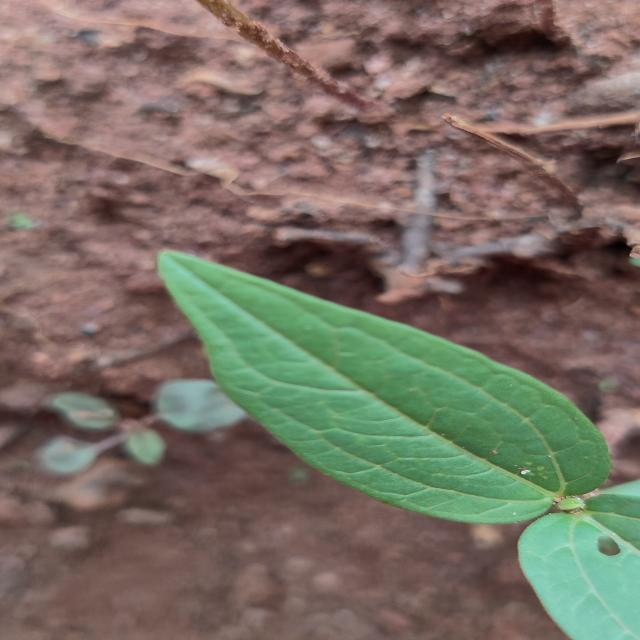Black gram_healthy: (156, 242, 613, 522)
